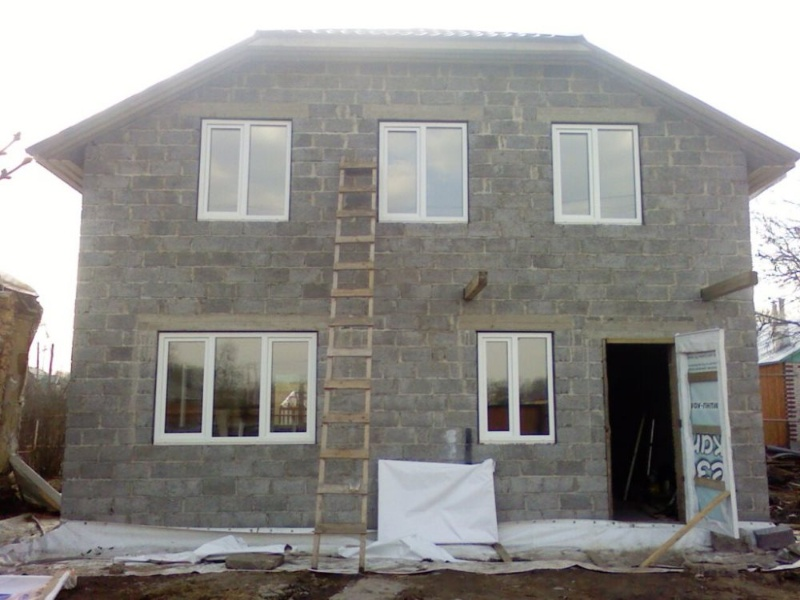window: (153, 331, 319, 438), (195, 110, 295, 218), (551, 121, 645, 224), (476, 326, 559, 442), (377, 119, 470, 217)
